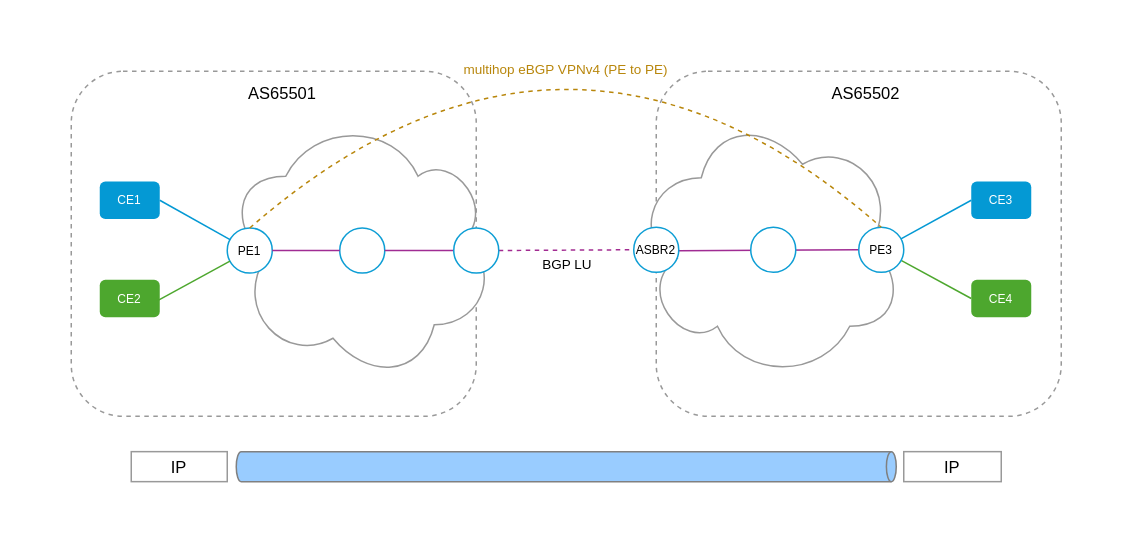
Some shapes in this 1131 by 546 pixel diagram are drawn without their labels. The shapes that lost their labels are listed below. From the top down, each one's centre as x and y in pixels, then its label:
(361,249): P1
(475,249): ASBR1
(772,249): P2
(565,466): MPLS
